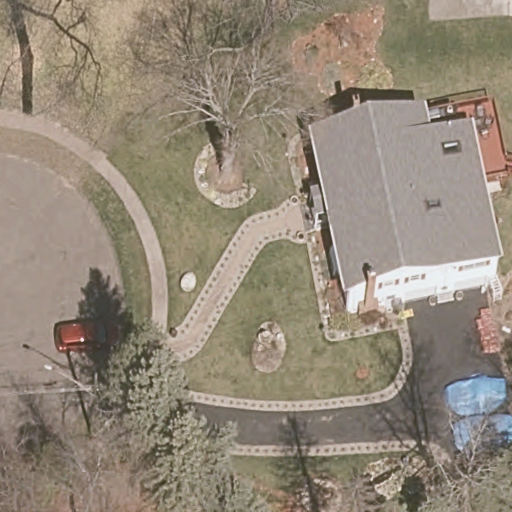DT: (42, 363, 100, 400)
